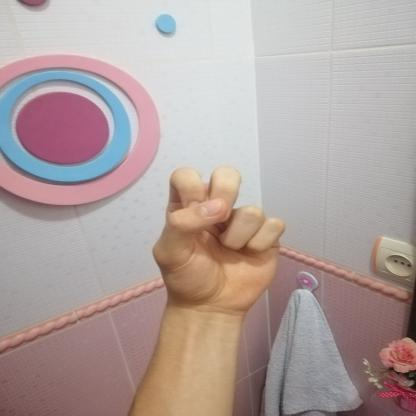QAAF: (131, 156, 306, 323)
